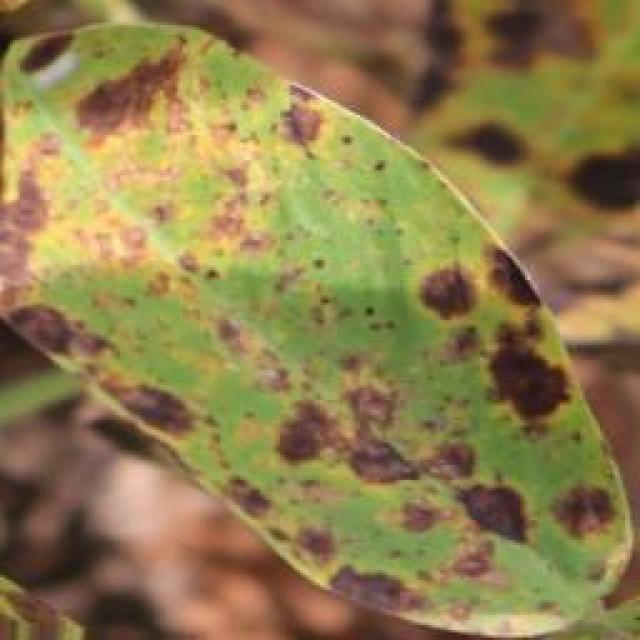Yellowish: (0, 8, 608, 640)
